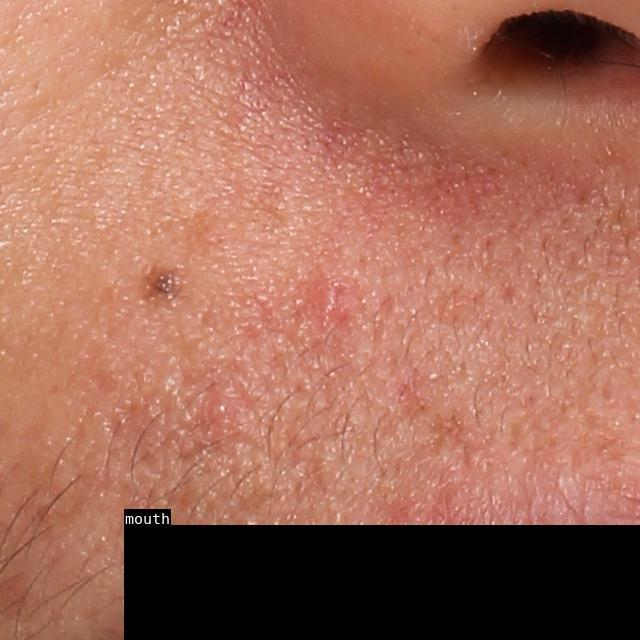nevus: (141, 263, 186, 300)
